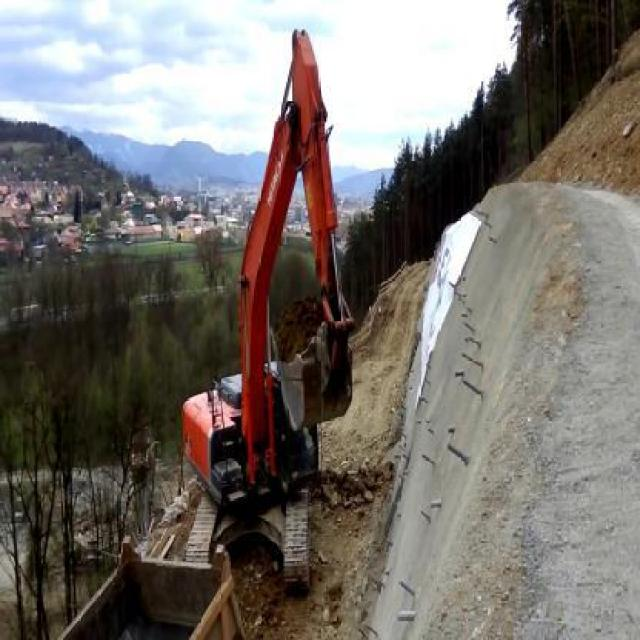Dump Truck: (38, 541, 242, 639)
Excavator: (166, 28, 360, 604)
